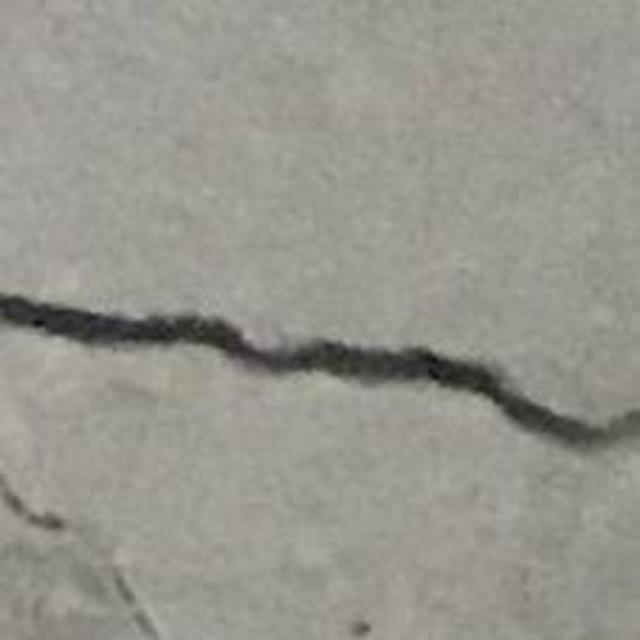crack: (0, 294, 639, 451)
